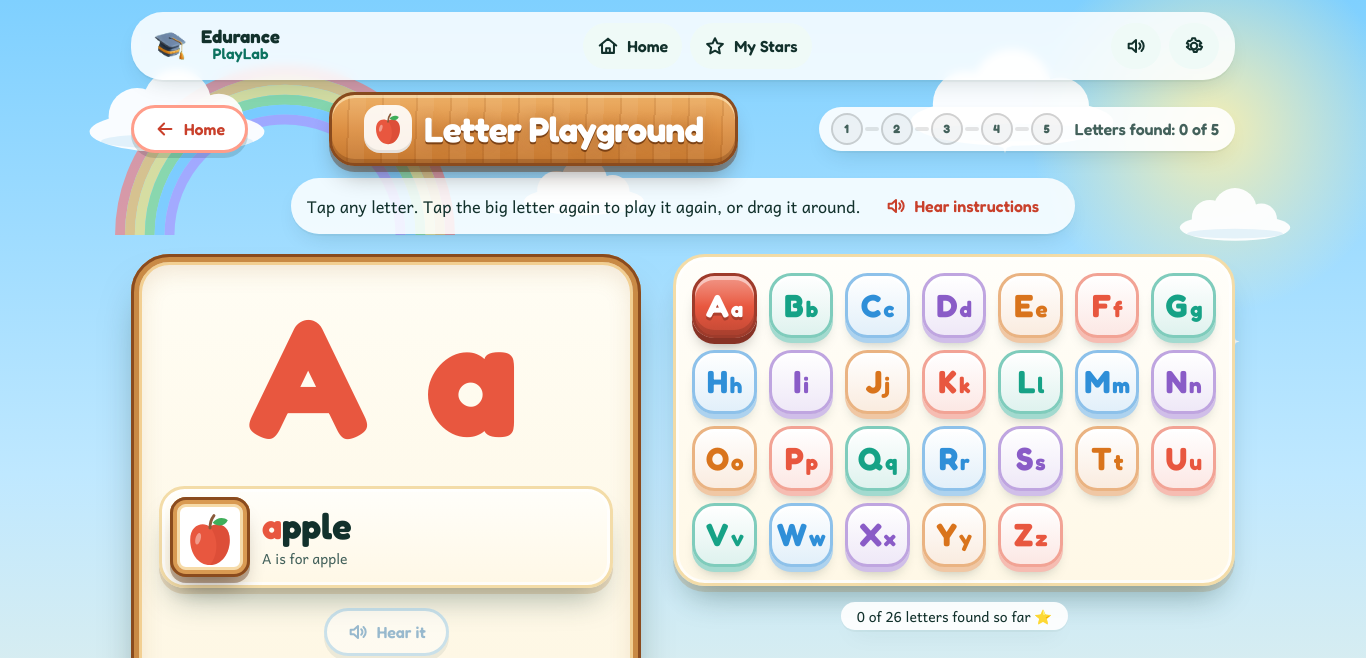
the alphabet goal is rewarded once per learner › the first time every letter is found, it gives the stars and the round
Click the button "A a" at [725, 306], box [692,273,757,338]
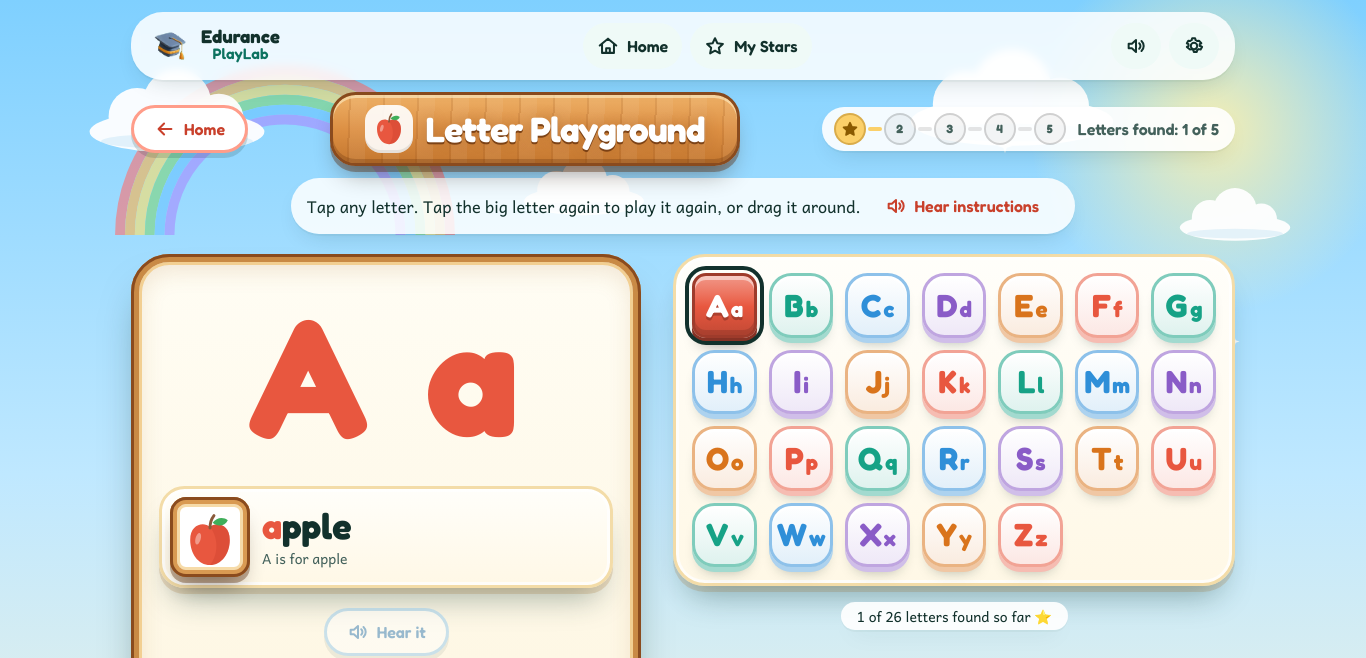
Click the button "B b" at [801, 306], box [769,273,834,338]
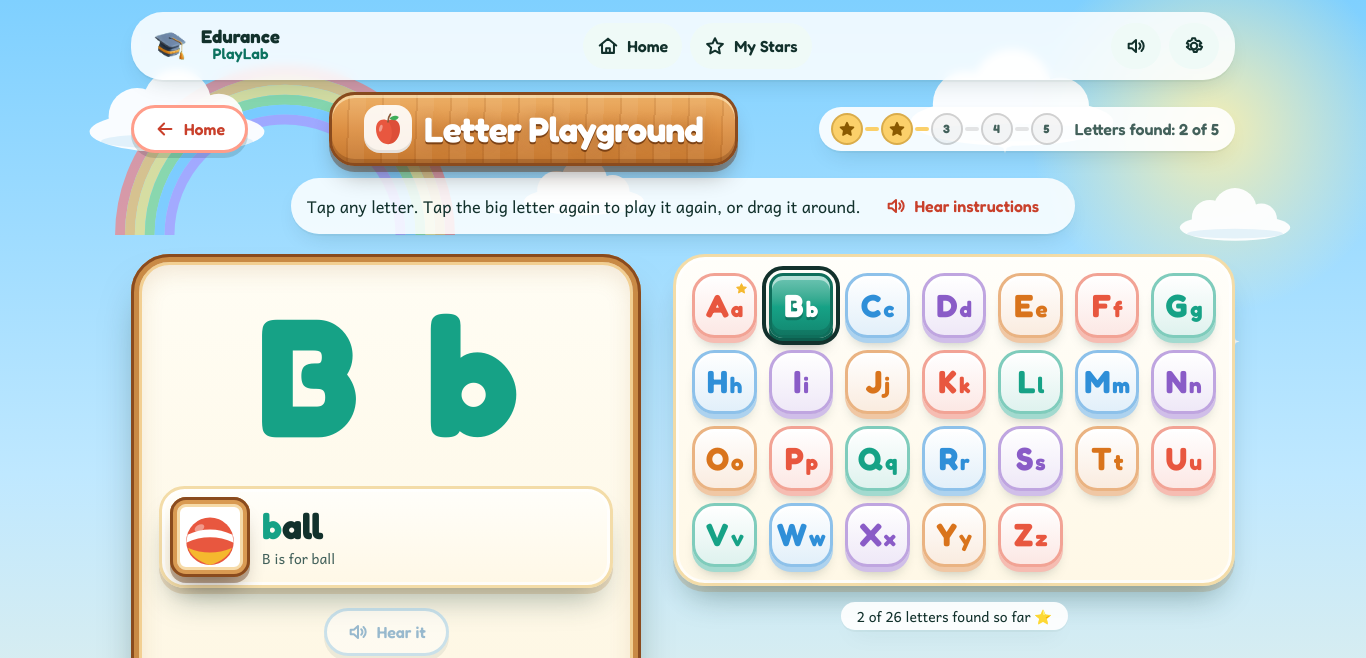
Click the button "C c" at [878, 306], box [846,273,910,338]
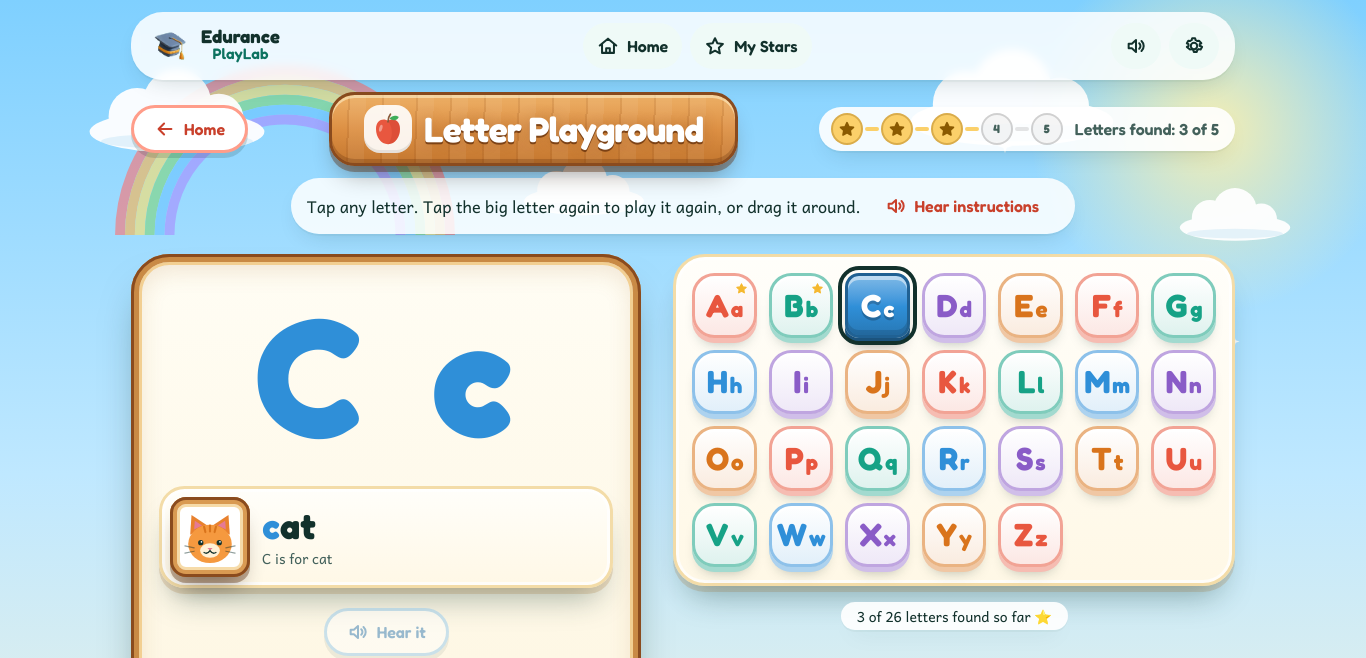
Click the button "D d" at [954, 306], box [922,273,986,338]
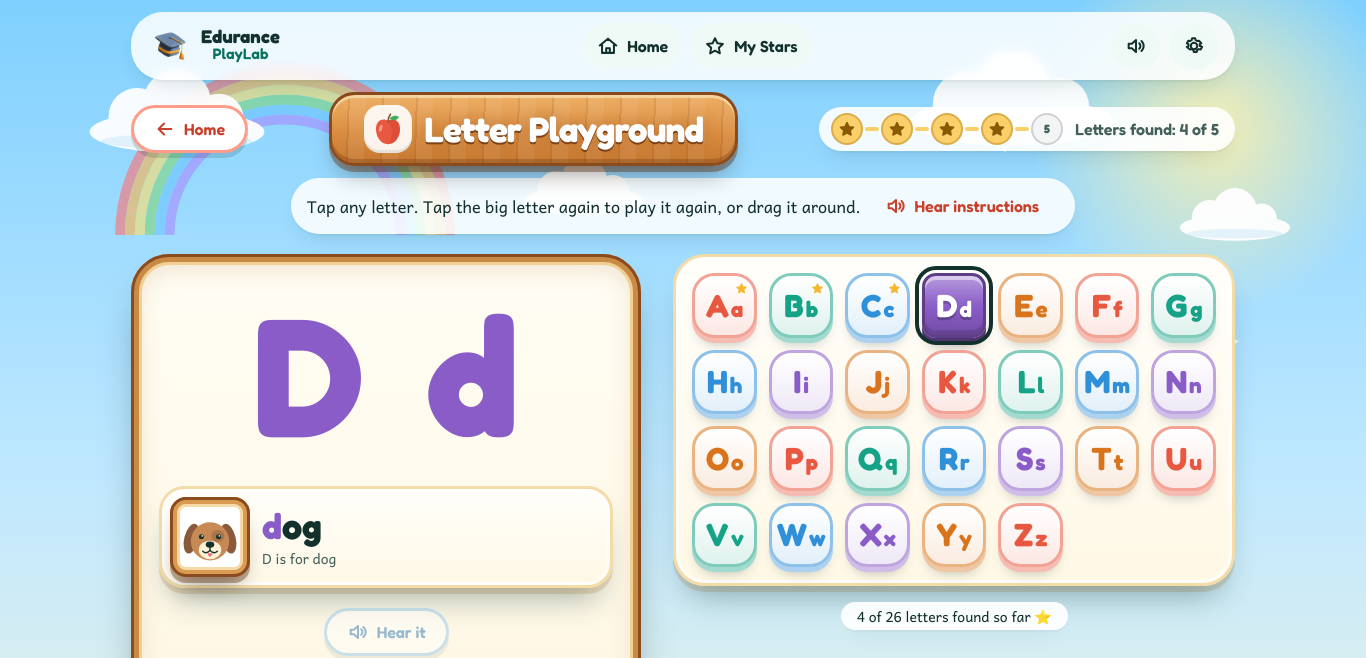
Click the button "E e" at [1031, 306], box [998,273,1063,338]
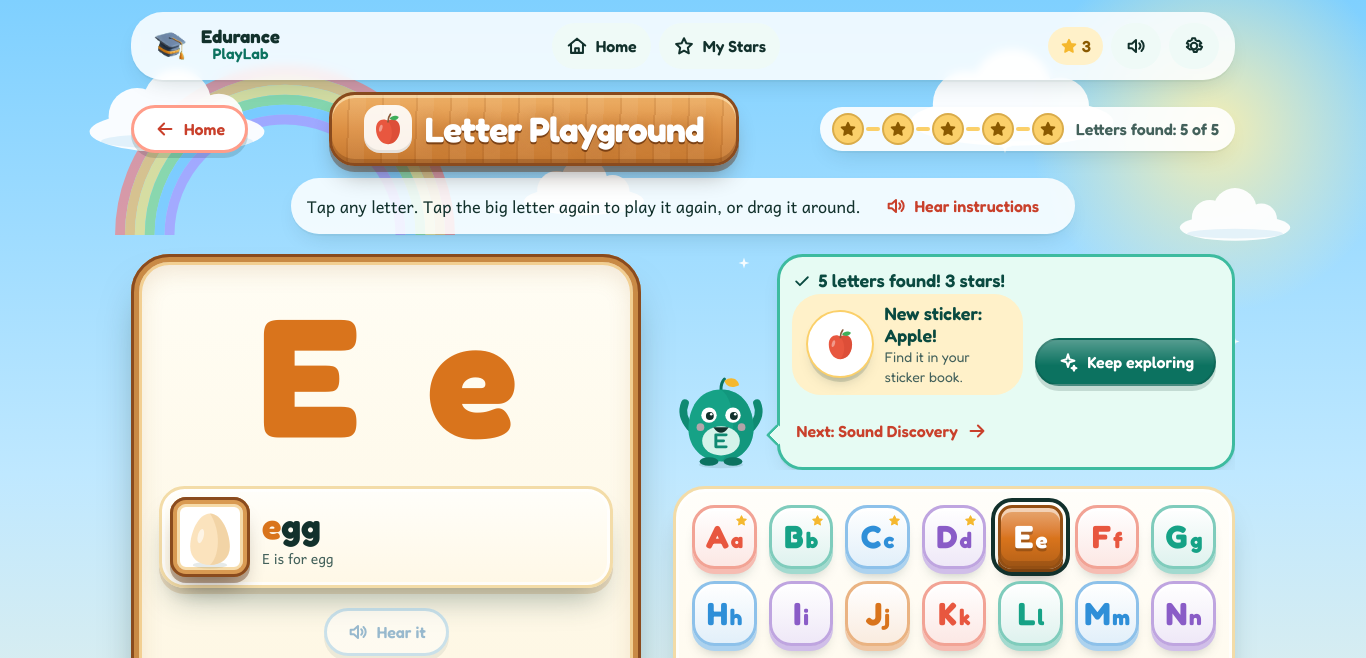
Now the text "5 letters found! 3 stars!" is shown, box [792,269,1023,292]
Now the element with test id "sticker-reveal" shows "New sticker: Apple!", box [792,294,1023,395]
